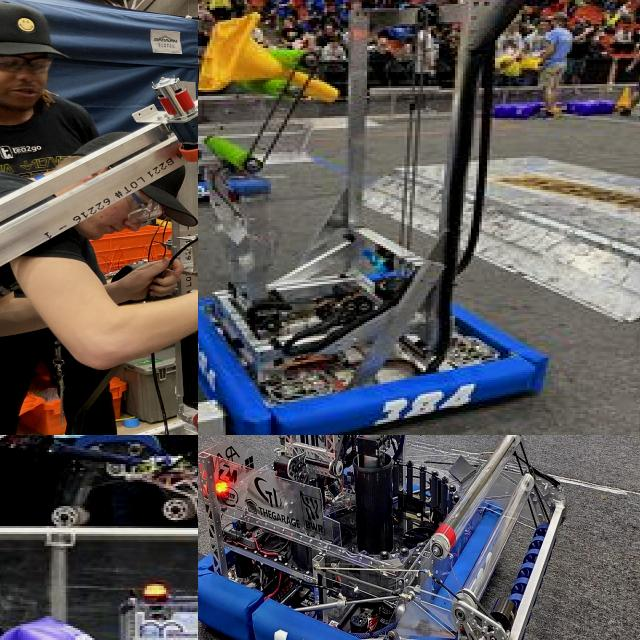FRC-Robots: (198, 0, 578, 435), (0, 0, 198, 435), (198, 435, 581, 640), (7, 435, 198, 640), (198, 16, 344, 216), (484, 31, 620, 119)
